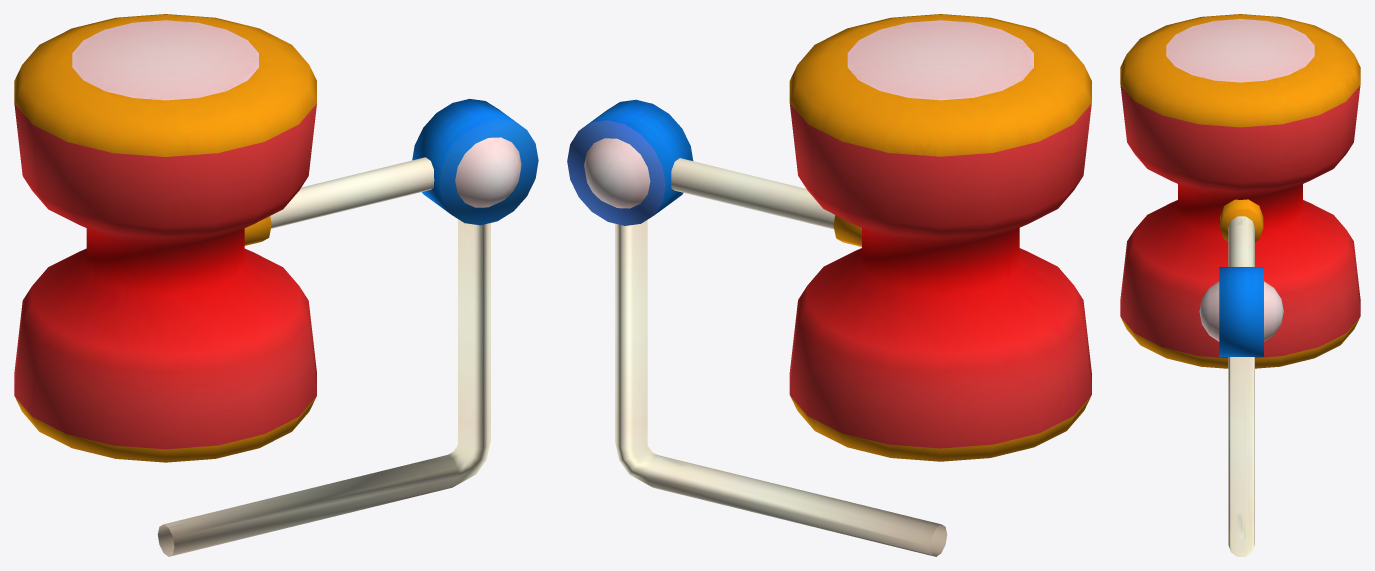
File: HammerMachine.fbx
3 renders of one model, left to right at view 1: azimuth 30°, elevation 25°; view 2: azimuth 150°, elevation 25°; view 3: azimuth 270°, elevation 25°, orthographic. The views are drawn at different scales.
Visible parts, largest first — view 1: Cylinder002, Cylinder006, Cylinder005, Cylinder004, Sphere002; view 2: Cylinder002, Cylinder006, Cylinder005, Cylinder004, Sphere001; view 3: Cylinder002, Cylinder006, Cylinder005, Cylinder004, Cylinder003, Sphere002, Sphere001.
Boxes of the visible parts, x1,y1,x2,y2 form: Cylinder002: (14, 14, 316, 462); Cylinder006: (157, 219, 490, 556); Cylinder005: (412, 98, 538, 225); Cylinder004: (270, 157, 434, 228); Sphere002: (455, 137, 521, 207); Cylinder002: (789, 14, 1091, 461); Cylinder006: (615, 220, 947, 556); Cylinder005: (567, 99, 693, 225); Cylinder004: (671, 158, 834, 229); Sphere001: (584, 138, 650, 208); Cylinder002: (1120, 14, 1360, 368); Cylinder006: (1228, 357, 1254, 556); Cylinder005: (1219, 267, 1263, 356); Cylinder004: (1228, 216, 1254, 266); Cylinder003: (1220, 199, 1263, 241); Sphere002: (1199, 281, 1219, 341); Sphere001: (1264, 281, 1283, 341).
Bounding box in the file's own units: 7.84 × 7.54 × 4.17.
Materials: 1 (1 with a texture image).
